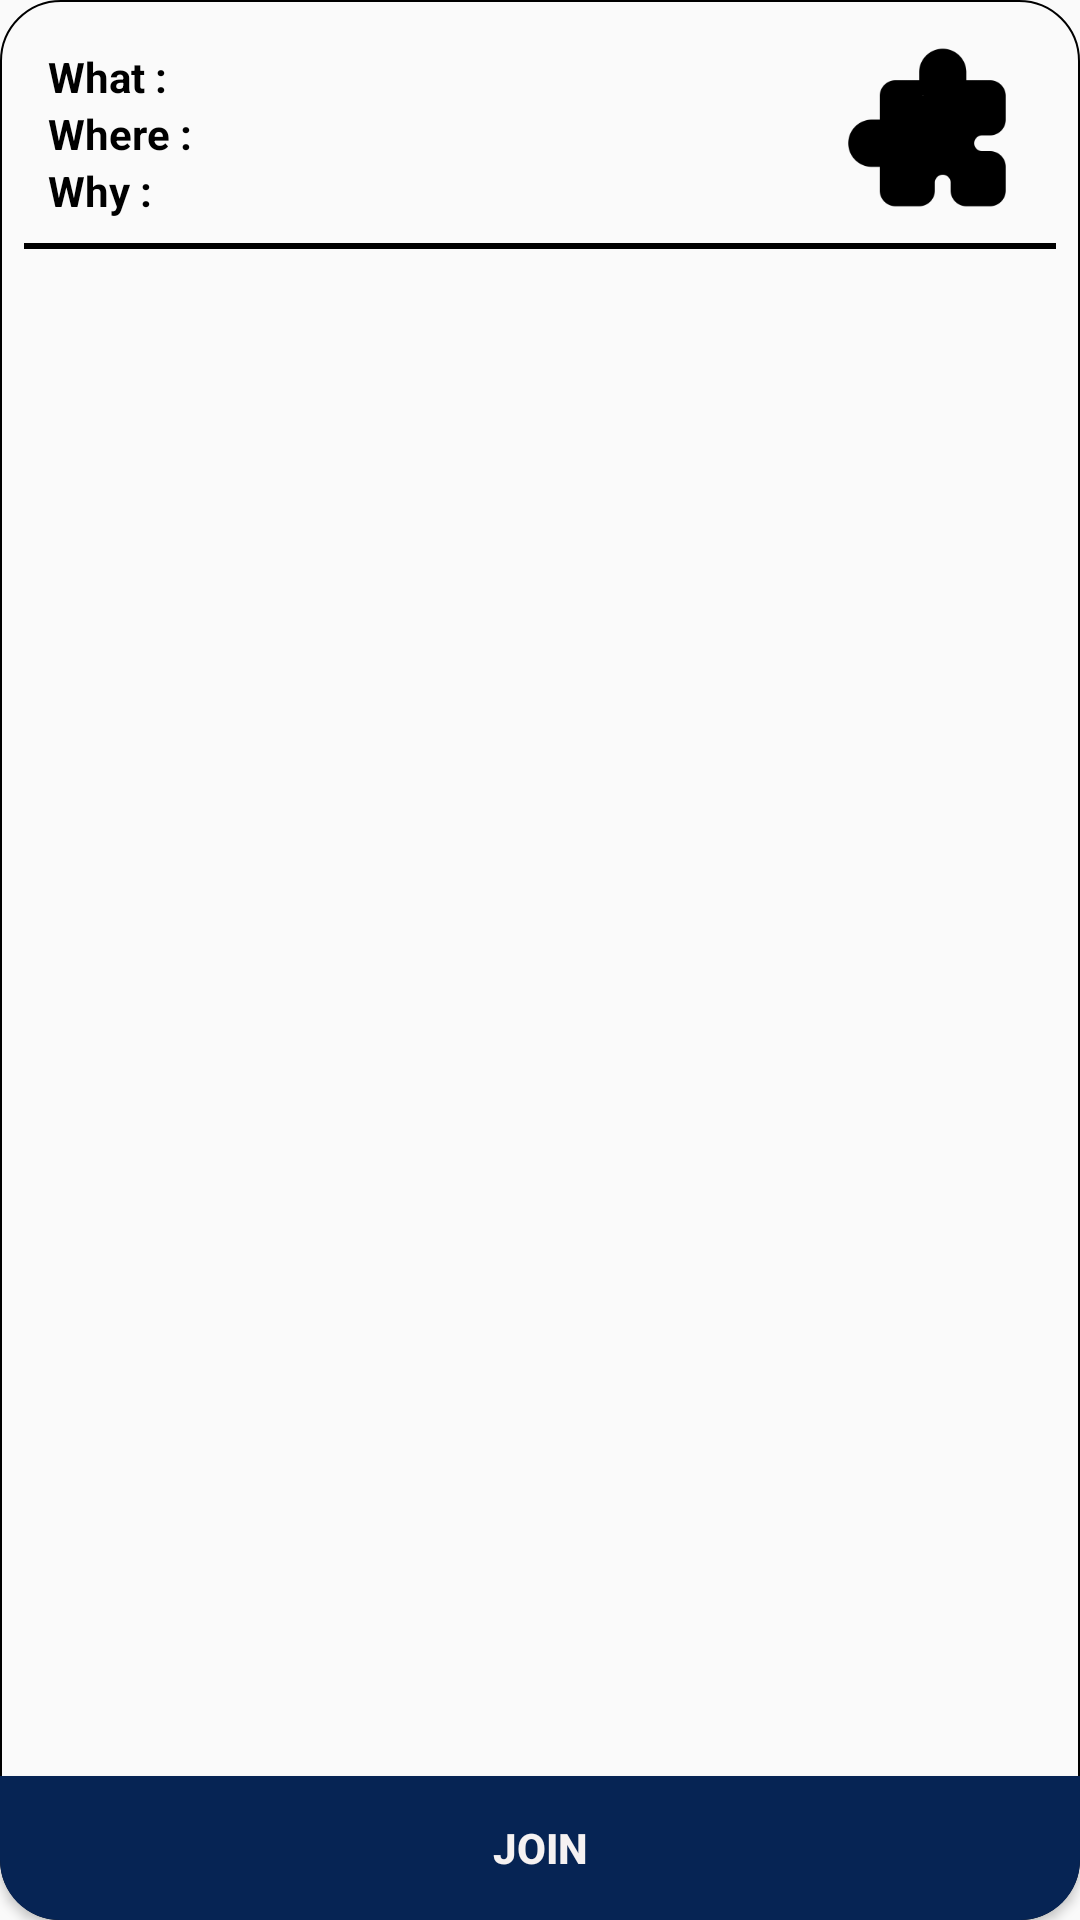

Icon bounding boxes for this 1080 × 1920 phone screenshot, format (x1, y1, x2, y2):
other: (848, 48, 1006, 207)
